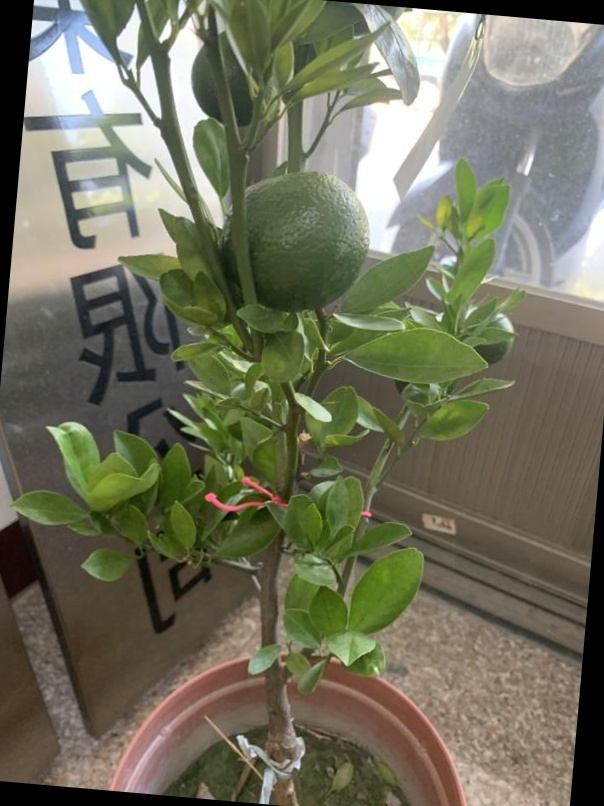Tangerine: (227, 175, 369, 308)
